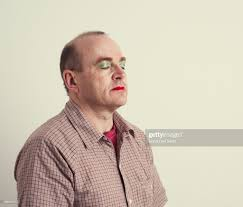white_male: (62, 45, 133, 110)
